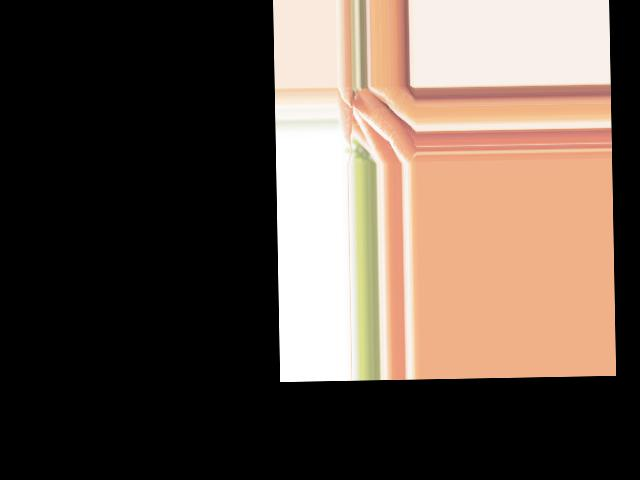carrot: (348, 104, 391, 156)
